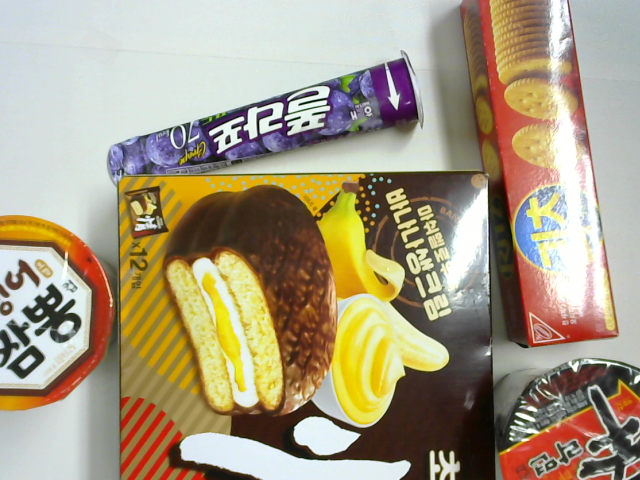Choco_Pie_Banana: (117, 172, 497, 480)
Ojjam: (1, 216, 113, 410)
Polapo_Grape: (110, 50, 421, 189)
Ritz_Cracker: (456, 1, 619, 348)
Sinramen_small: (496, 354, 640, 480)
